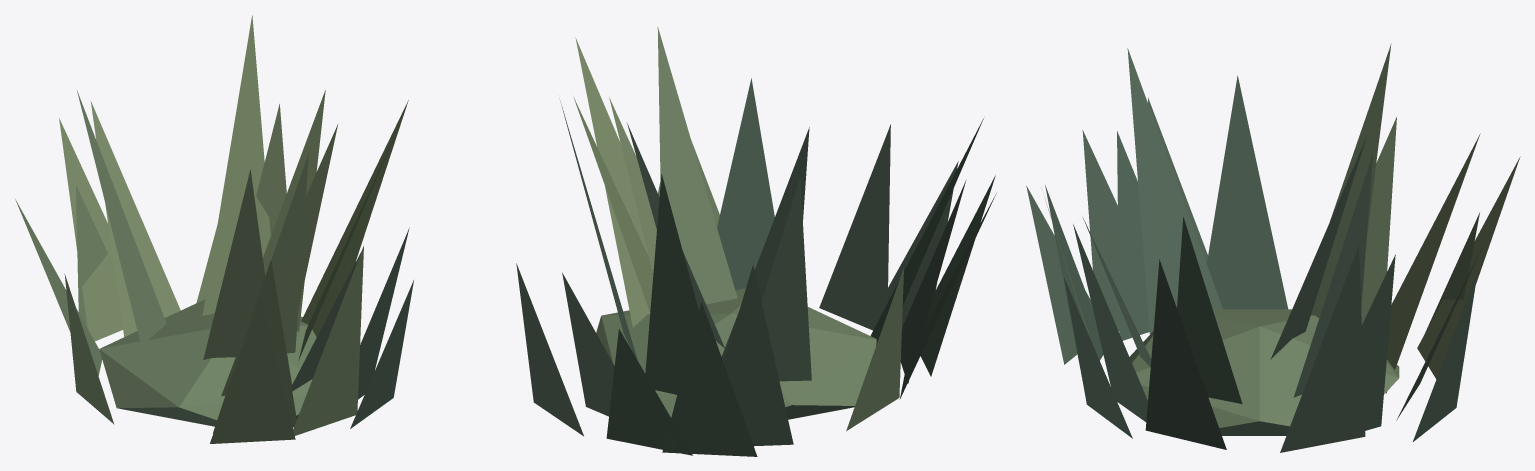
The model's file is bush_b.glb.
3 renders of one model, left to right at view 1: azimuth 30°, elevation 25°; view 2: azimuth 150°, elevation 25°; view 3: azimuth 270°, elevation 25°, orthographic. The views are drawn at different scales.
Parts seen in each view (by area): view 1: bush_b; view 2: bush_b; view 3: bush_b.
Part boxes in pixels (x1,y1,x2,y2): bush_b: (15, 15, 413, 443); bush_b: (516, 26, 996, 456); bush_b: (1026, 44, 1520, 452).
Bounding box in the file's own units: 1.27 × 0.9548 × 1.37.
